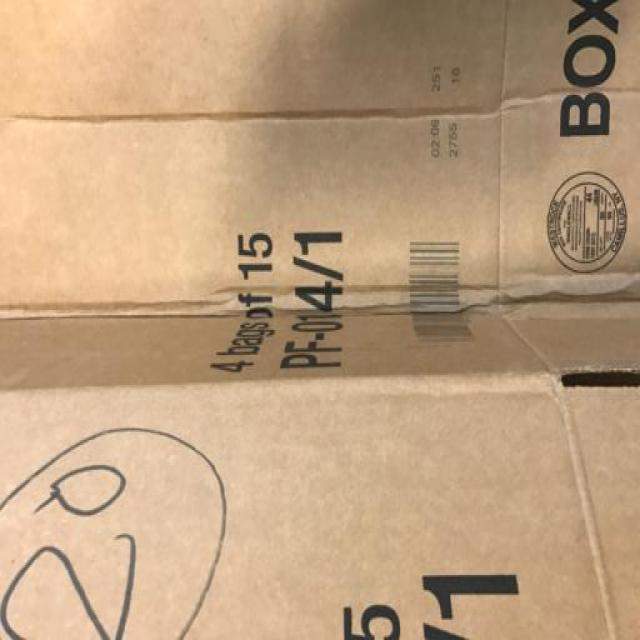cardboard: (0, 305, 637, 639), (0, 0, 639, 314)
